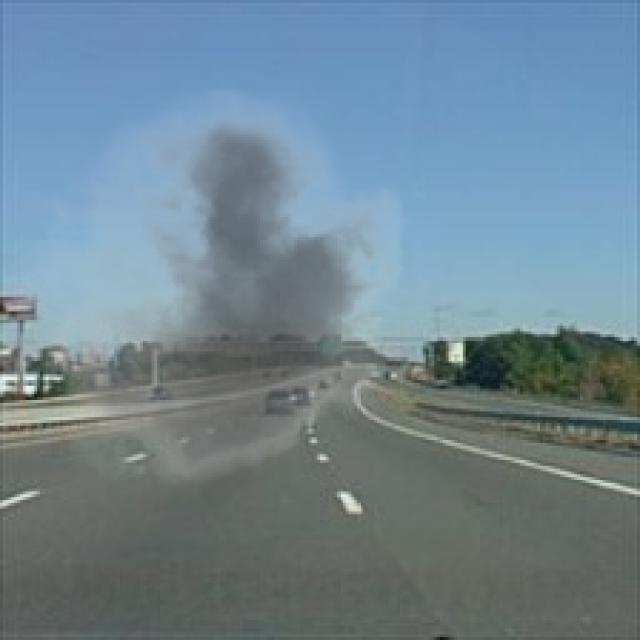smoke: (0, 86, 426, 503)
